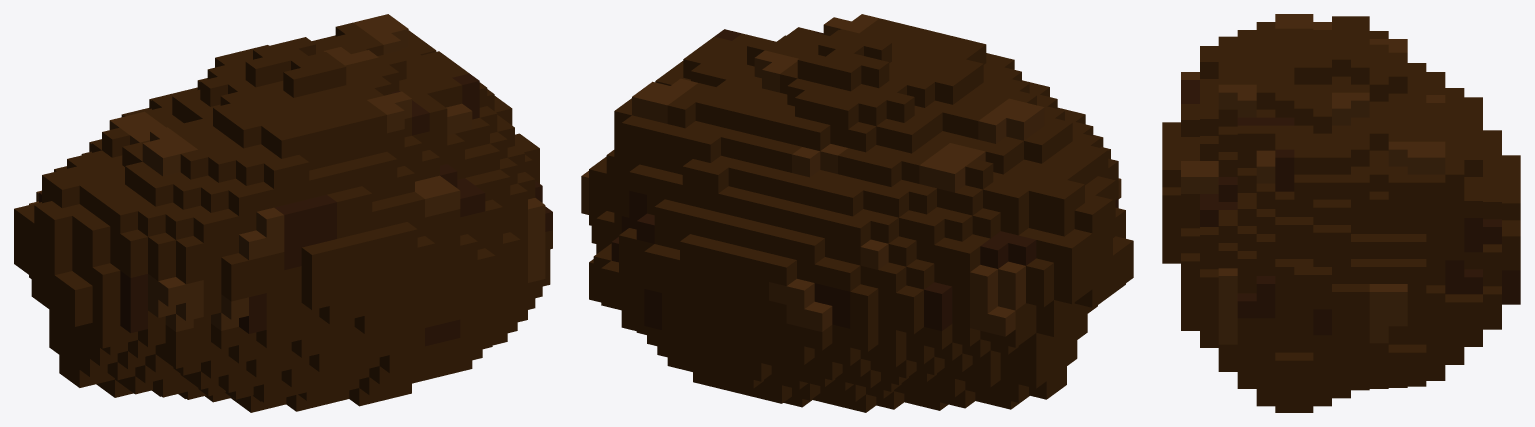
The model's file is asteroid3.FBX.
3 views of the same model, side by side, from view 1: azimuth 30°, elevation 25°; view 2: azimuth 150°, elevation 25°; view 3: azimuth 270°, elevation 25° (orthographic). The views are drawn at different scales.
Visible parts, largest first — view 1: default; view 2: default; view 3: default.
Boxes of the visible parts, <box> form: default: <box>14,14,552,412</box>; default: <box>581,14,1133,412</box>; default: <box>1162,14,1520,412</box>.
Size of the model in its own units: 27 by 19 by 17.
Materials: 2 (2 with a texture image).
